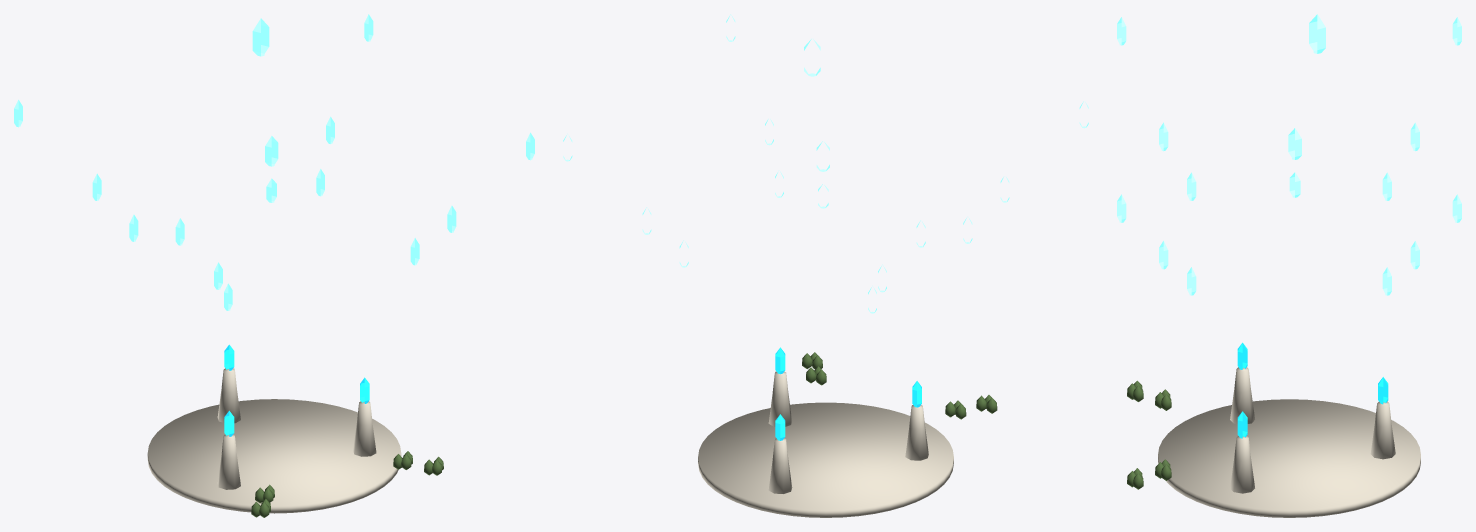
Rendered from Catalog-25.glb.
The picture shows the model from 3 angles, left to right: view 1: azimuth 30°, elevation 25°; view 2: azimuth 150°, elevation 25°; view 3: azimuth 270°, elevation 25°; orthographic projection. The views are drawn at different scales.
Parts seen in each view (by area): view 1: Pale Carved Stone (×3), Crystal Bright Facets (×3); view 2: Pale Carved Stone, Moss Green Leaves; view 3: Pale Carved Stone (×3), Crystal Bright Facets (×3), Moss Green Leaves (×2), Cyan Relay Crystal.
Boxes of the visible parts, bbox=[...] form: Pale Carved Stone (×3): bbox=[147, 368, 401, 513]; Crystal Bright Facets (×3): bbox=[14, 14, 534, 310]; Pale Carved Stone: bbox=[698, 372, 953, 517]; Moss Green Leaves: bbox=[806, 366, 966, 419]; Pale Carved Stone (×3): bbox=[1158, 367, 1420, 517]; Crystal Bright Facets (×3): bbox=[1117, 14, 1461, 295]; Moss Green Leaves (×2): bbox=[1127, 380, 1171, 489]; Cyan Relay Crystal: bbox=[1237, 342, 1388, 438].
Bounding box in the file's own units: 15.38 × 17.68 × 12.33.
